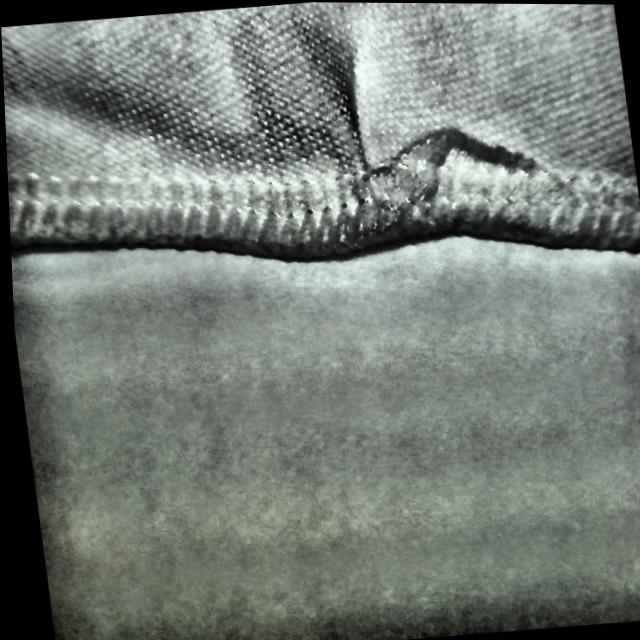seam: (300, 46, 543, 265)
